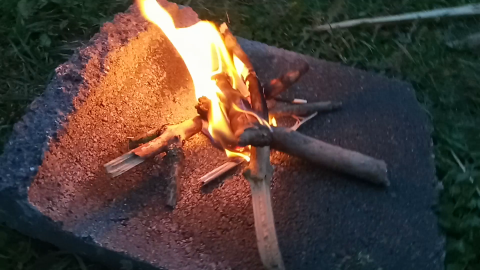fire: (134, 4, 264, 151)
